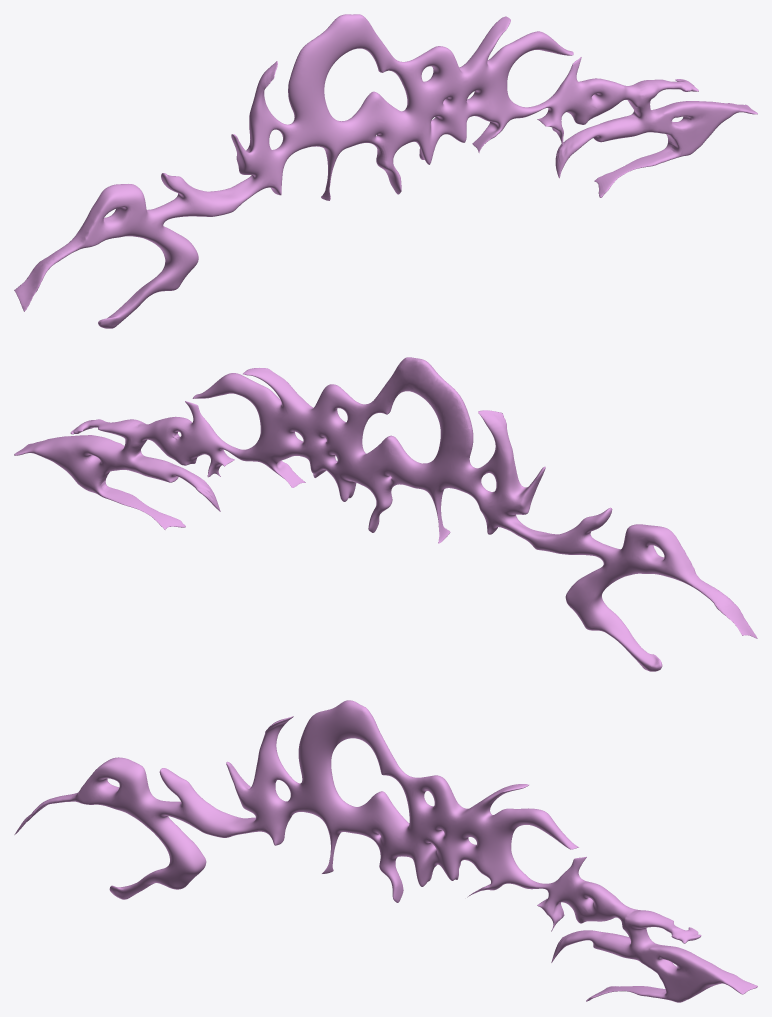
3 renders of one model, top to bottom at view 1: azimuth 30°, elevation 25°; view 2: azimuth 150°, elevation 25°; view 3: azimuth 330°, elevation 25°, orthographic.
Visible parts, largest first — view 1: Curve; view 2: Curve; view 3: Curve.
Boxes of the visible parts, bbox=[...] form: Curve: bbox=[14, 14, 757, 328]; Curve: bbox=[14, 357, 757, 671]; Curve: bbox=[14, 700, 757, 1002].
Bounding box in the file's own units: 11.74 × 3.91 × 0.5545.
